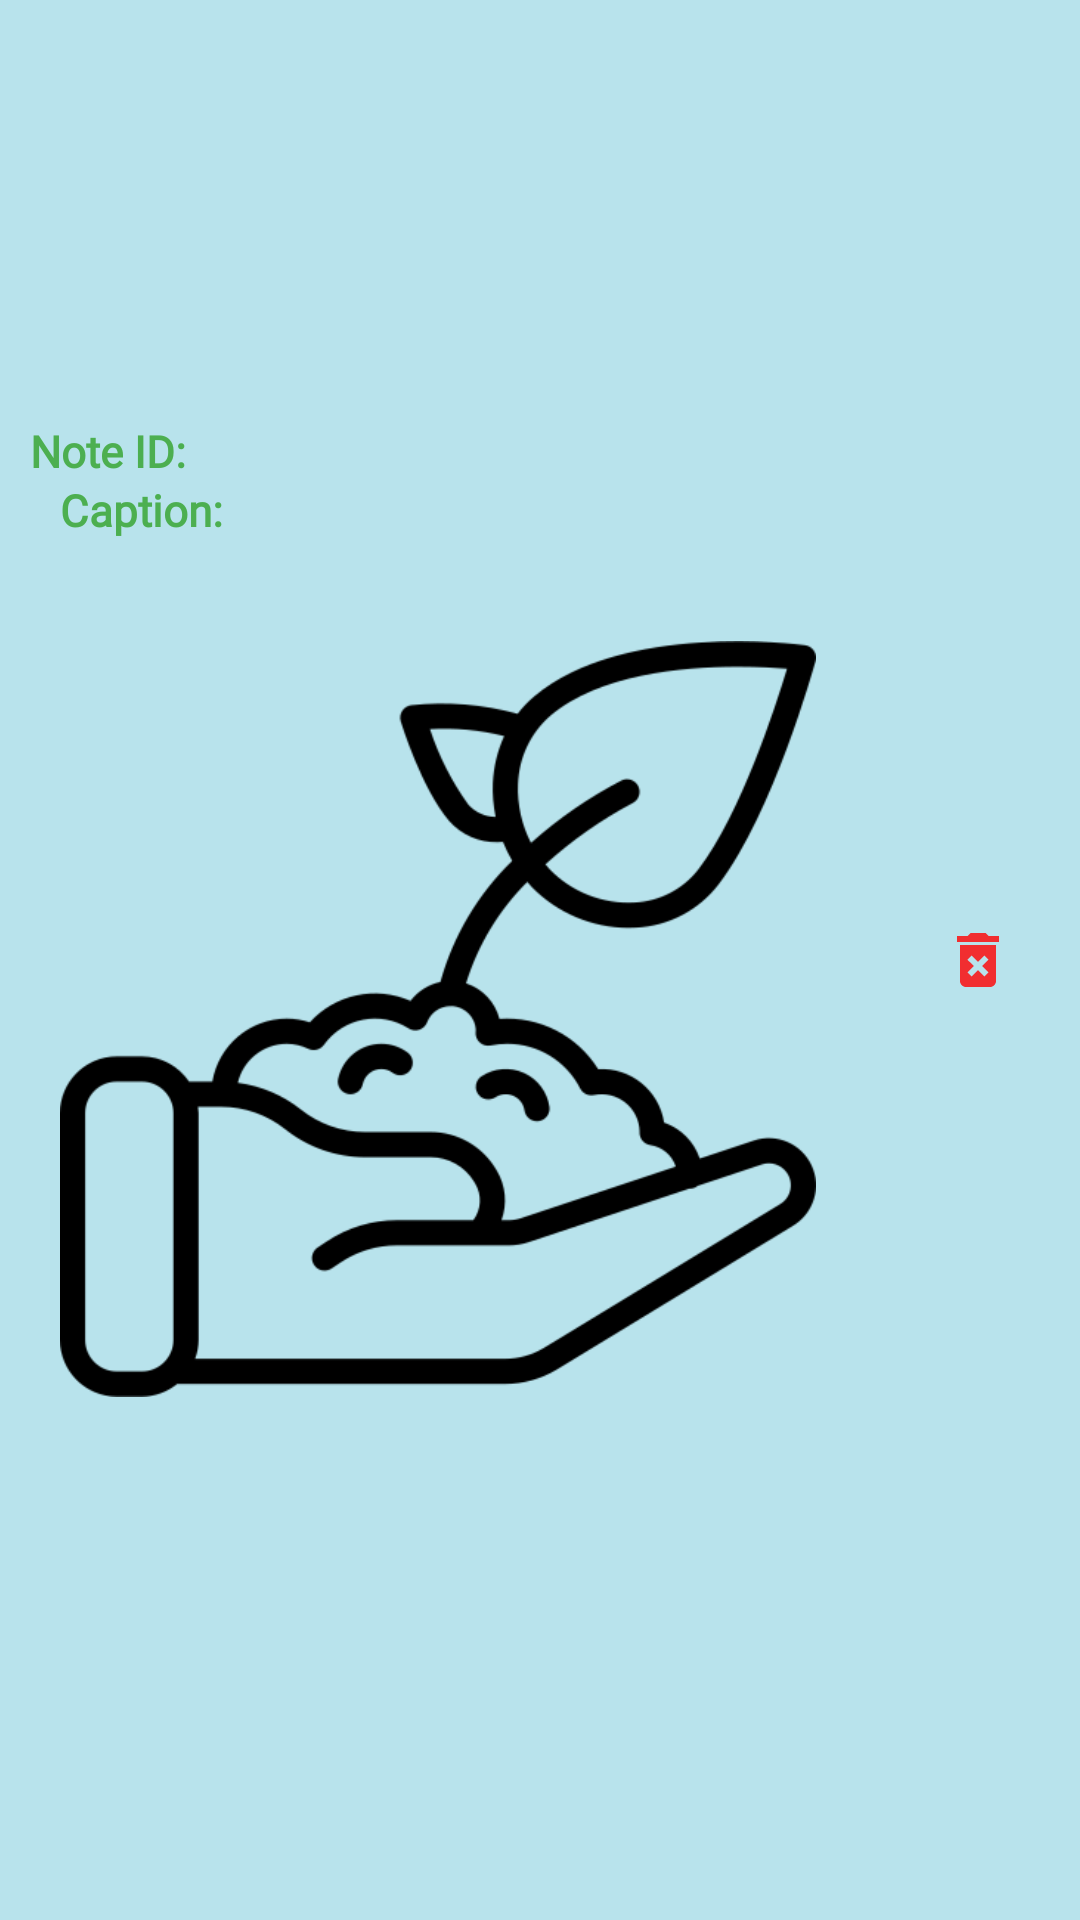

Named icons in this screenshot (1080px×1920px) and their centers, point (x, y):
trashcan: point (978, 960)
